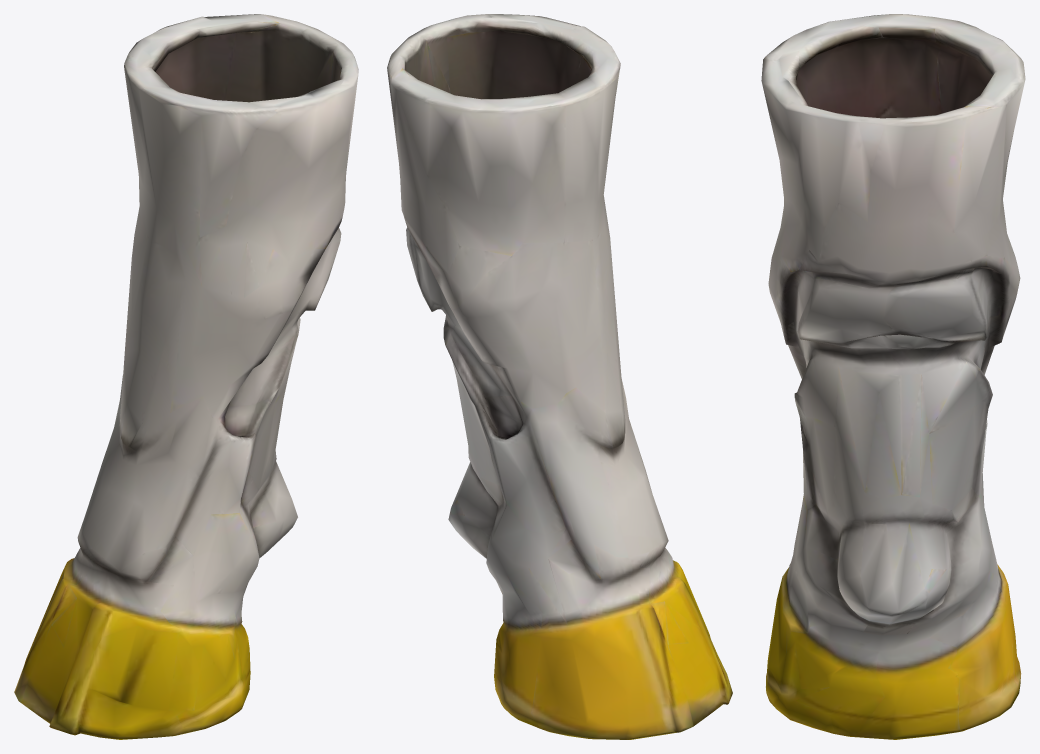
Rendered from leg_fl_lo.glb.
3 renders of one model, left to right at view 1: azimuth 30°, elevation 25°; view 2: azimuth 150°, elevation 25°; view 3: azimuth 270°, elevation 25°, orthographic. The views are drawn at different scales.
Size of the model in its own units: 1.06 by 2 by 0.705.
Materials: 1 (1 with a texture image).
